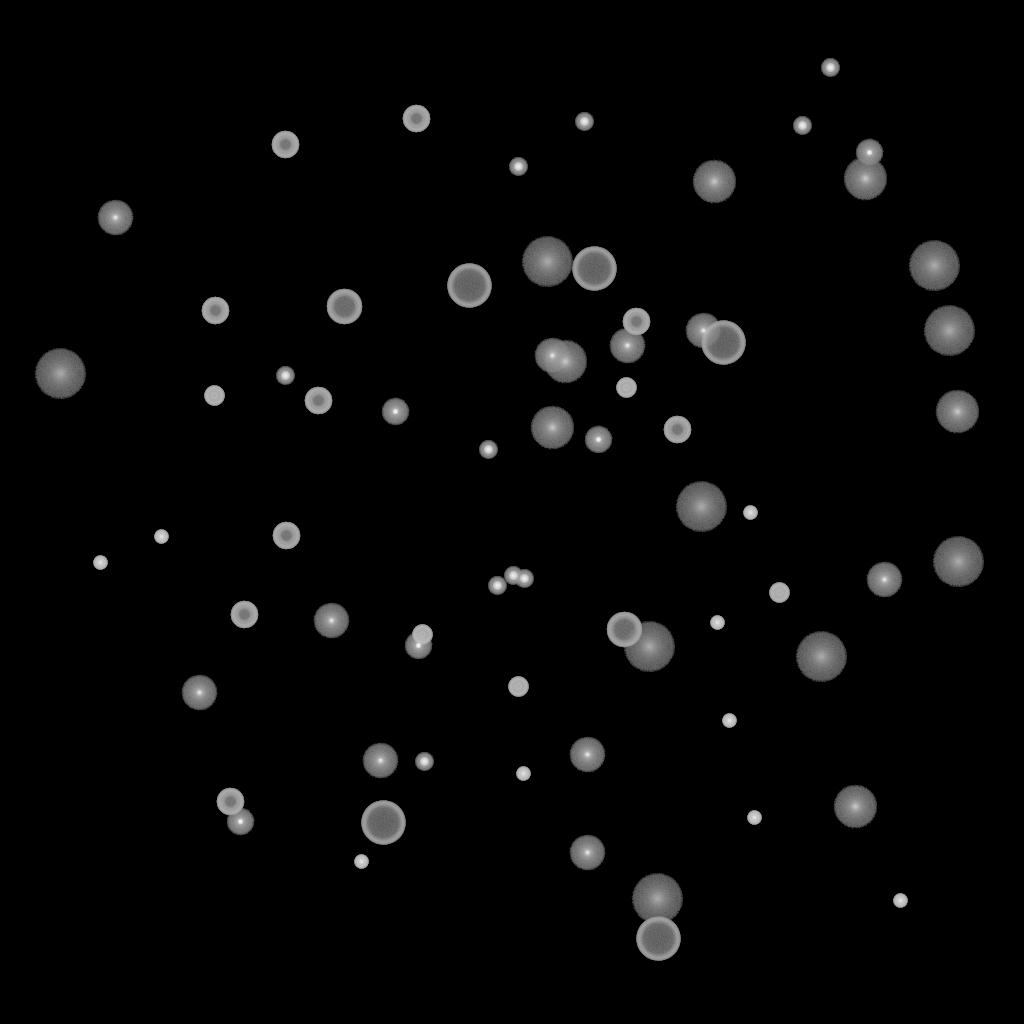depth:-10: (584, 426, 612, 454), (855, 139, 883, 167), (404, 632, 432, 660), (226, 808, 254, 836), (381, 398, 409, 426)
depth:-20: (415, 753, 433, 771), (504, 567, 522, 585), (509, 158, 527, 176), (488, 577, 506, 595), (821, 59, 839, 77), (515, 570, 533, 588), (479, 441, 497, 459), (575, 113, 593, 131), (793, 117, 811, 135), (276, 367, 294, 385)
depth:-30: (354, 855, 368, 869), (516, 767, 530, 781), (893, 894, 907, 908), (747, 811, 761, 825), (154, 530, 168, 544), (743, 506, 757, 520), (710, 616, 724, 630), (93, 556, 107, 570), (722, 714, 736, 728)
depth:-40: (412, 625, 432, 645), (204, 386, 224, 406), (769, 583, 789, 603), (508, 677, 528, 697), (616, 378, 636, 398)
depth:-50: (216, 788, 244, 816), (304, 387, 332, 415), (271, 131, 299, 159), (622, 308, 650, 336), (230, 601, 258, 629), (201, 297, 229, 325), (402, 105, 430, 133), (663, 416, 691, 444), (272, 522, 300, 550)
depth:-60: (606, 612, 642, 648), (326, 289, 362, 325)
depth:-70: (572, 247, 616, 291), (447, 264, 491, 308), (361, 801, 405, 845), (701, 321, 745, 365), (636, 917, 680, 961)
depth:0: (313, 603, 349, 639), (609, 328, 645, 364), (362, 743, 398, 779), (181, 675, 217, 711), (866, 562, 902, 598), (97, 200, 133, 236), (569, 737, 605, 773), (534, 338, 570, 374), (685, 313, 721, 349), (569, 835, 605, 871)
depth:10: (543, 340, 587, 384), (692, 160, 736, 204), (935, 390, 979, 434), (843, 157, 887, 201), (833, 785, 877, 829), (530, 406, 574, 450)
depth:20: (795, 632, 847, 682), (932, 537, 984, 587), (908, 241, 960, 291), (521, 237, 573, 287), (631, 874, 683, 924), (923, 306, 975, 356), (675, 482, 727, 532), (623, 622, 675, 672), (34, 349, 86, 399)
